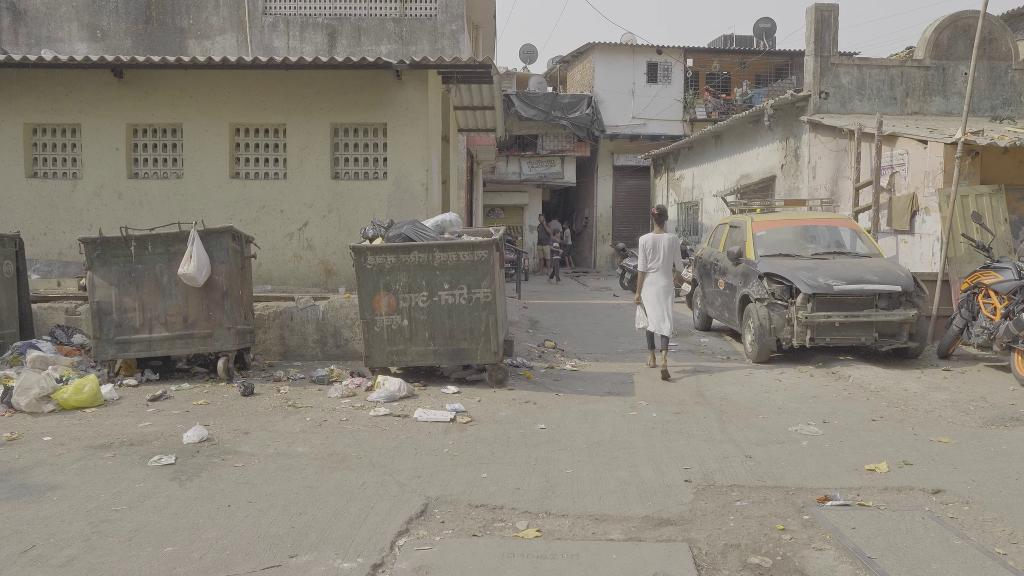dustbin: (83, 220, 257, 374), (354, 224, 511, 379)
garbage: (2, 346, 69, 410), (45, 364, 109, 420), (174, 221, 213, 293), (363, 372, 421, 408)
